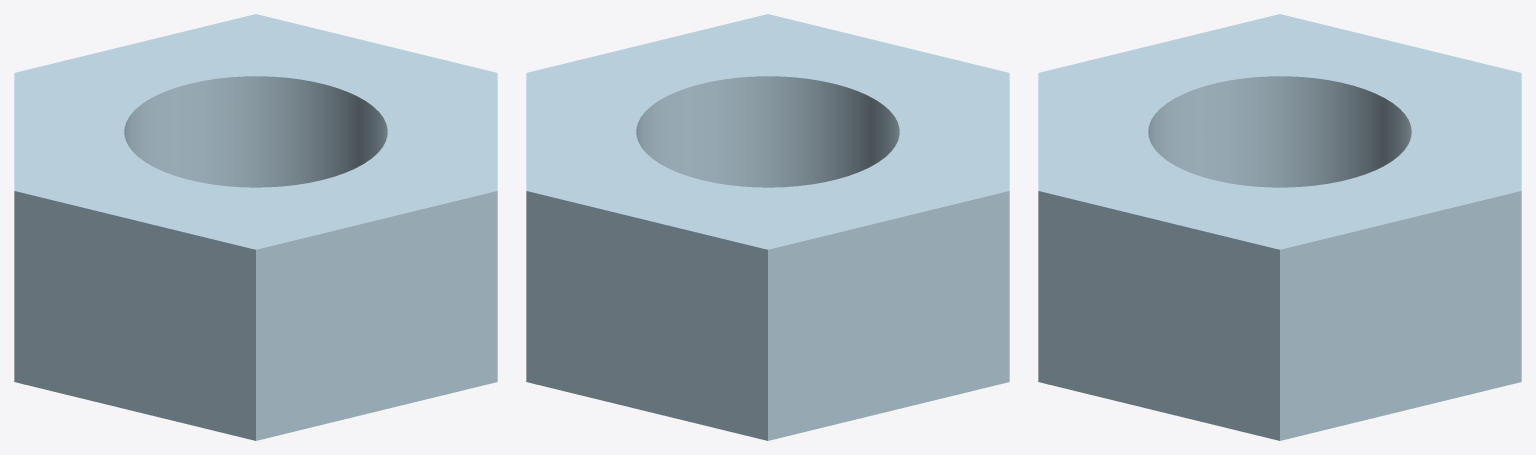
3 views of the same model, side by side, from view 1: azimuth 30°, elevation 25°; view 2: azimuth 150°, elevation 25°; view 3: azimuth 270°, elevation 25° (orthographic).
Visible parts, largest first — view 1: mesh79068, mesh79071, mesh79073, mesh79066; view 2: mesh79068, mesh79072, mesh79074, mesh79066; view 3: mesh79068, mesh79069, mesh79070, mesh79066.
Part boxes in pixels (box(x1,y1,x2,y2)): mesh79068: box(14, 14, 497, 249); mesh79071: box(256, 191, 497, 440); mesh79073: box(14, 191, 255, 440); mesh79066: box(124, 76, 387, 187); mesh79068: box(526, 14, 1009, 249); mesh79072: box(526, 191, 767, 440); mesh79074: box(768, 191, 1009, 440); mesh79066: box(636, 76, 899, 187); mesh79068: box(1038, 14, 1521, 249); mesh79069: box(1038, 191, 1279, 440); mesh79070: box(1280, 191, 1521, 440); mesh79066: box(1148, 76, 1411, 187).
Size of the model in its own units: 0.00635 by 0.0024 by 0.0055.
